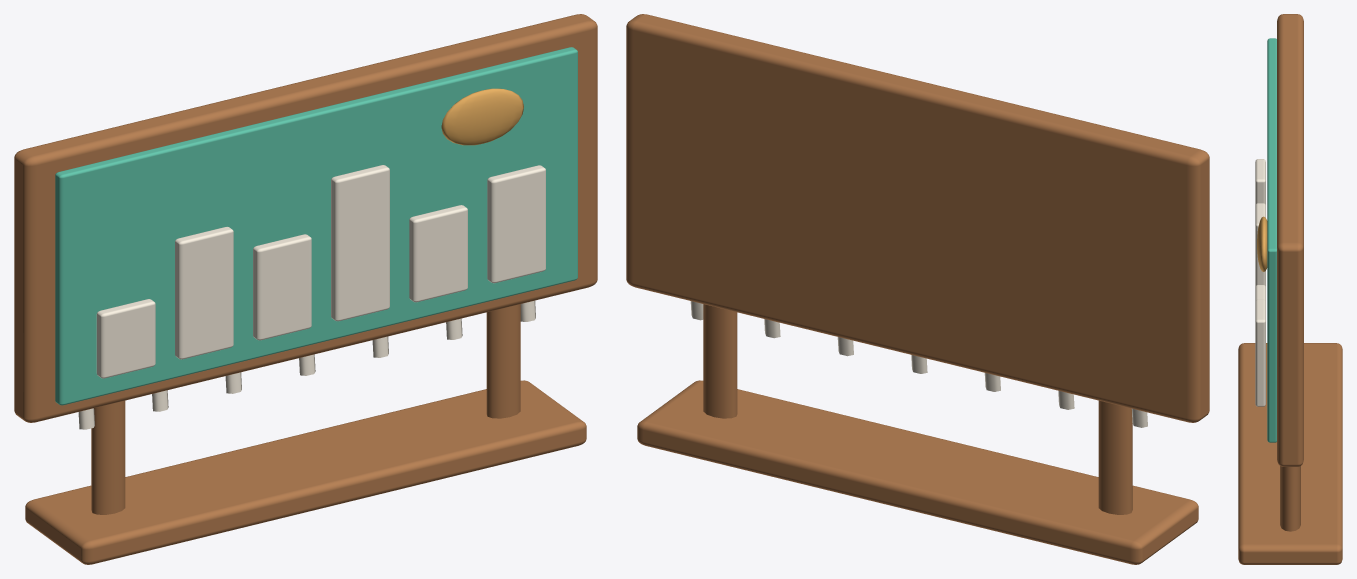
The model's file is llmville-banner.glb.
3 renders of one model, left to right at view 1: azimuth 30°, elevation 25°; view 2: azimuth 150°, elevation 25°; view 3: azimuth 270°, elevation 25°, orthographic. The views are drawn at different scales.
Parts seen in each view (by area): view 1: llmville_banner; view 2: llmville_banner; view 3: llmville_banner.
Part boxes in pixels (<box>): llmville_banner: <box>14,14,597,564</box>; llmville_banner: <box>626,14,1209,564</box>; llmville_banner: <box>1238,14,1342,564</box>.
Bounding box in the file's own units: 6.85 × 4.55 × 1.28.
